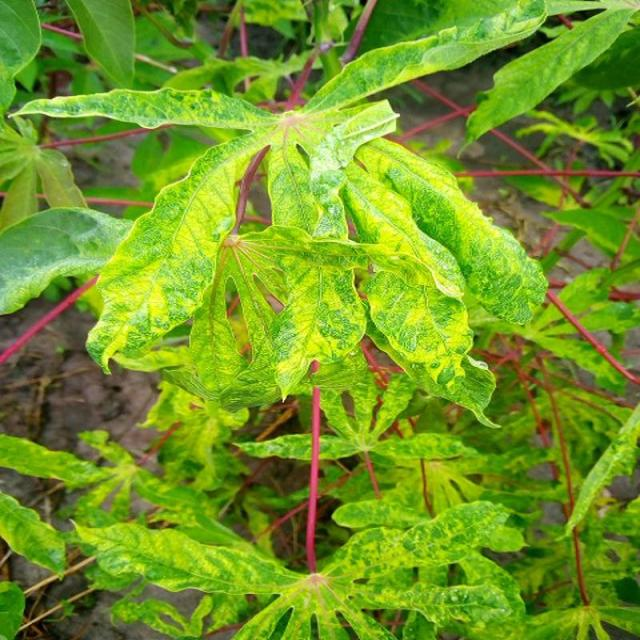cassava leaf: (14, 1, 558, 432)
